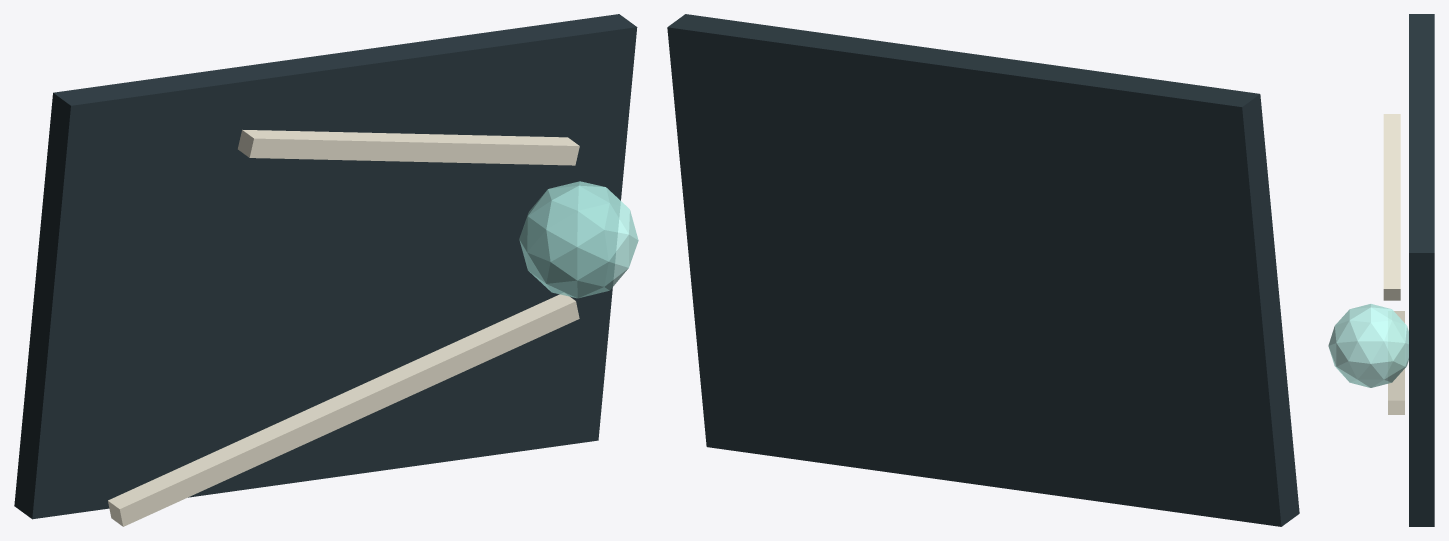
The model's file is 02_world_prop_polish.glb.
The picture shows the model from 3 angles, left to right: view 1: azimuth 30°, elevation 25°; view 2: azimuth 150°, elevation 25°; view 3: azimuth 270°, elevation 25°; orthographic projection. The views are drawn at different scales.
Parts seen in each view (by area): view 1: object_overlay_plate, edge_wear_a, glow_socket, edge_wear_b; view 2: object_overlay_plate; view 3: object_overlay_plate, glow_socket, edge_wear_b, edge_wear_a.
Part boxes in pixels (x1=…): object_overlay_plate: x1=14, y1=14, x2=637, y2=519; edge_wear_a: x1=108, y1=293, x2=579, y2=526; glow_socket: x1=519, y1=181, x2=638, y2=298; edge_wear_b: x1=238, y1=129, x2=579, y2=165; object_overlay_plate: x1=667, y1=14, x2=1299, y2=526; object_overlay_plate: x1=1409, y1=14, x2=1434, y2=526; glow_socket: x1=1328, y1=304, x2=1408, y2=387; edge_wear_b: x1=1383, y1=114, x2=1400, y2=300; edge_wear_a: x1=1388, y1=311, x2=1404, y2=414.
Bounding box in the file's own units: 1.17 × 0.8561 × 0.25.
